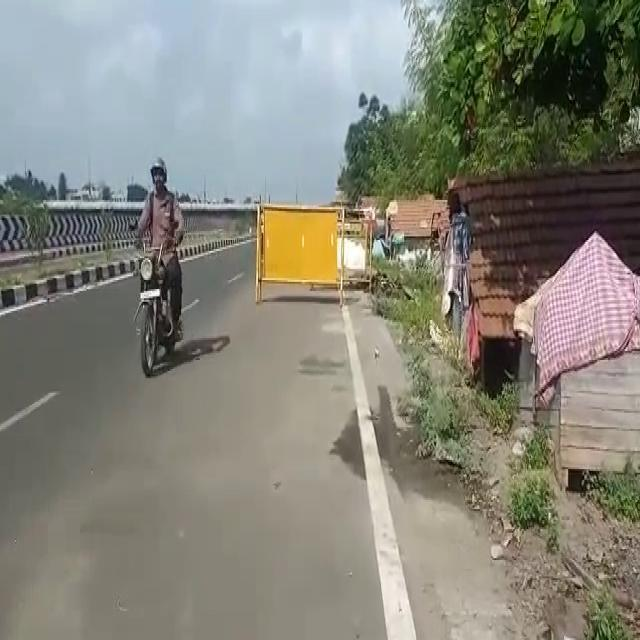fallen_object: (237, 176, 376, 339)
